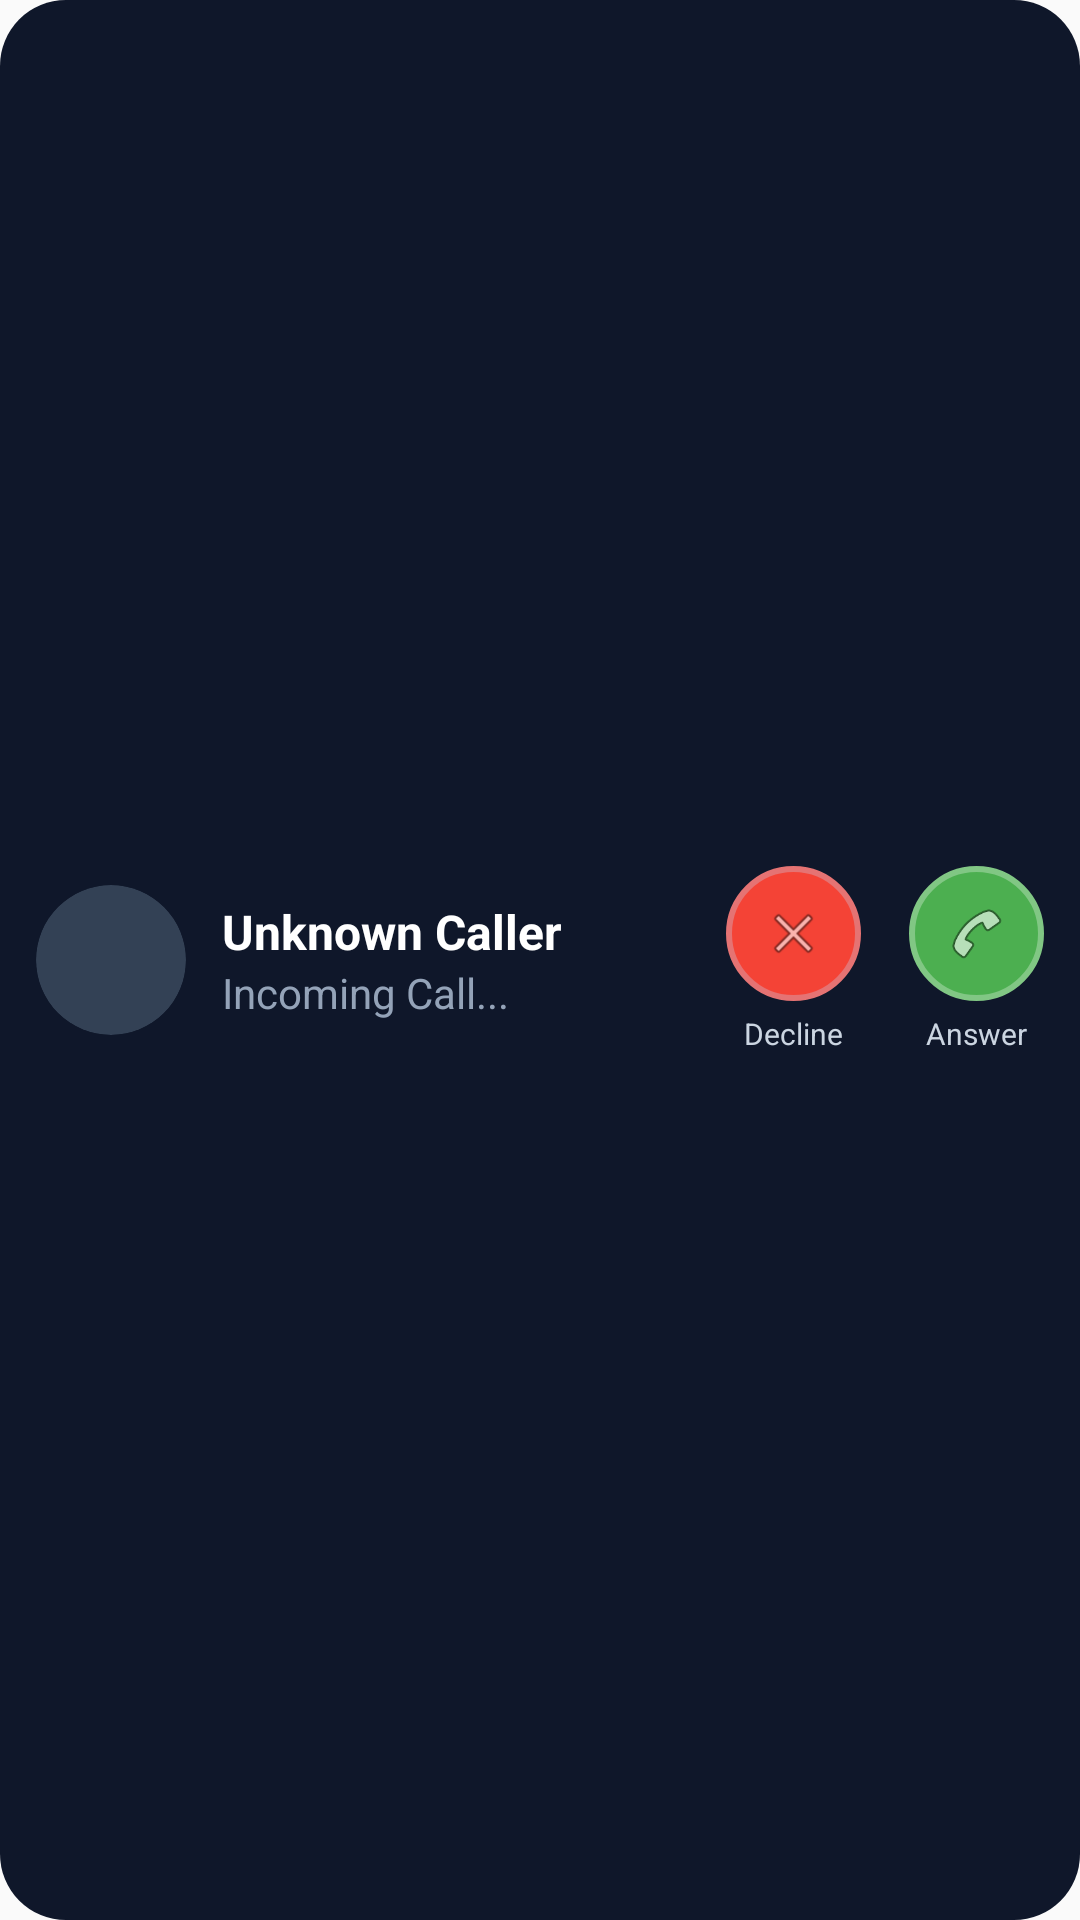

Icons on this 1080 × 1920 Android screen, each with the point to tap as (x=x, y=y):
call: (x=976, y=933)
